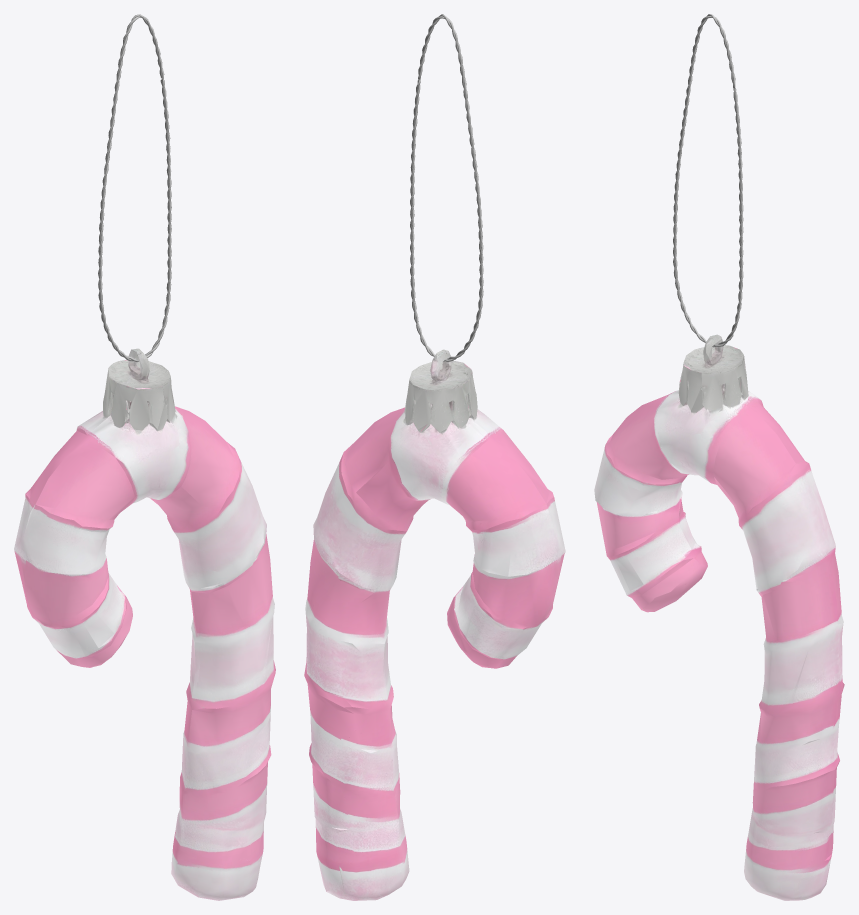
The model's file is Candy_cane2.glb.
3 views of the same model, side by side, from view 1: azimuth 30°, elevation 25°; view 2: azimuth 150°, elevation 25°; view 3: azimuth 330°, elevation 25° (orthographic). The views are drawn at different scales.
Visible parts, largest first — view 1: Mesh1.0, GN Instance; view 2: Mesh1.0, GN Instance; view 3: Mesh1.0, GN Instance.
Part boxes in pixels (x1,y1,x2,y2): Mesh1.0: [14, 348, 275, 900]; GN Instance: [98, 14, 171, 362]; Mesh1.0: [304, 349, 565, 900]; GN Instance: [410, 14, 483, 361]; Mesh1.0: [594, 334, 844, 900]; GN Instance: [673, 14, 743, 347].
Bounding box in the file's own units: 0.0416 × 0.1439 × 0.0157.
2 materials, 1 textured.
